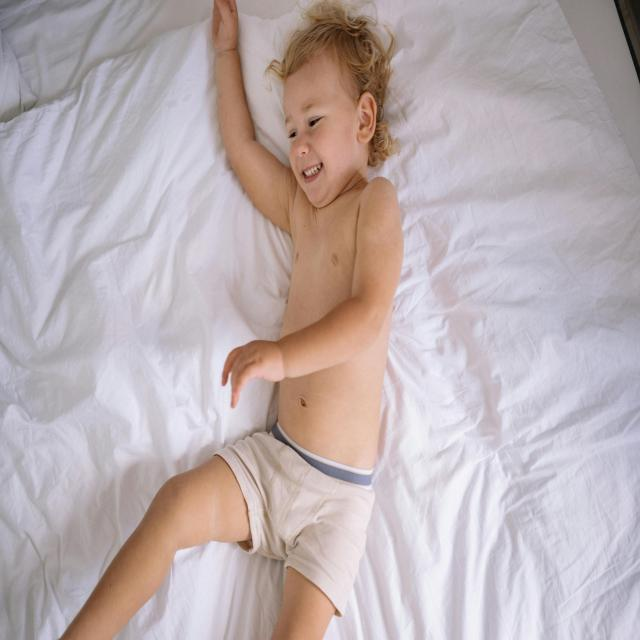lie: (188, 27, 406, 640)
